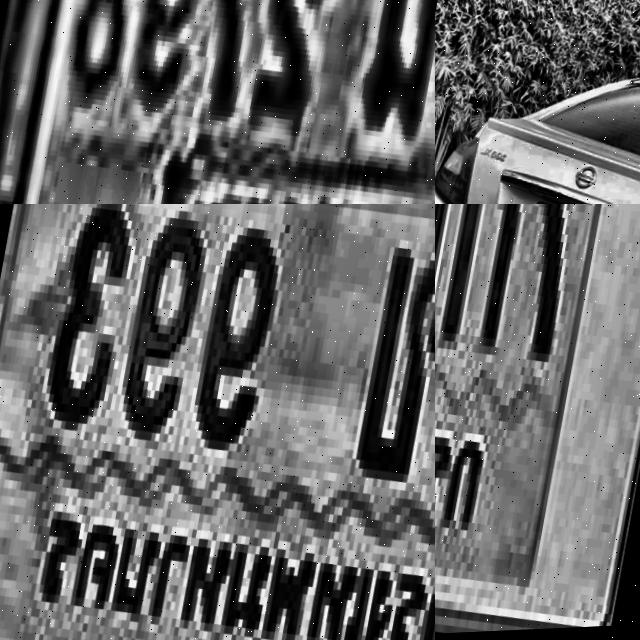license-plate: (0, 204, 435, 640), (435, 204, 640, 640), (0, 0, 435, 204)
